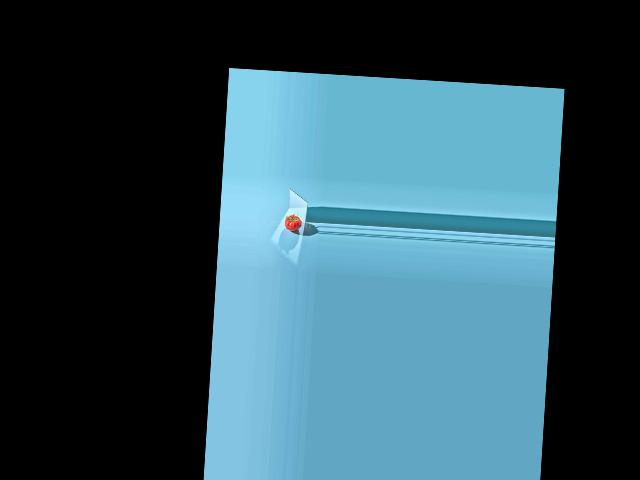tomato: (284, 214, 302, 231)
